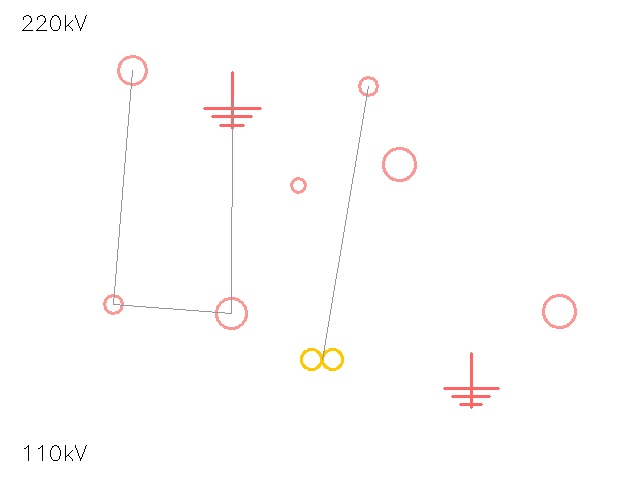current_transformer: (526, 278, 592, 344)
disconnect_switch: (201, 283, 261, 343)
feeder_terminal: (95, 286, 131, 322)
fuse: (367, 132, 431, 196), (283, 170, 313, 200)
ground: (204, 72, 260, 128), (444, 353, 498, 407)
load_break_switch: (349, 67, 387, 105)
reactor: (103, 41, 161, 99)
transformer_2w: (295, 332, 349, 386)
